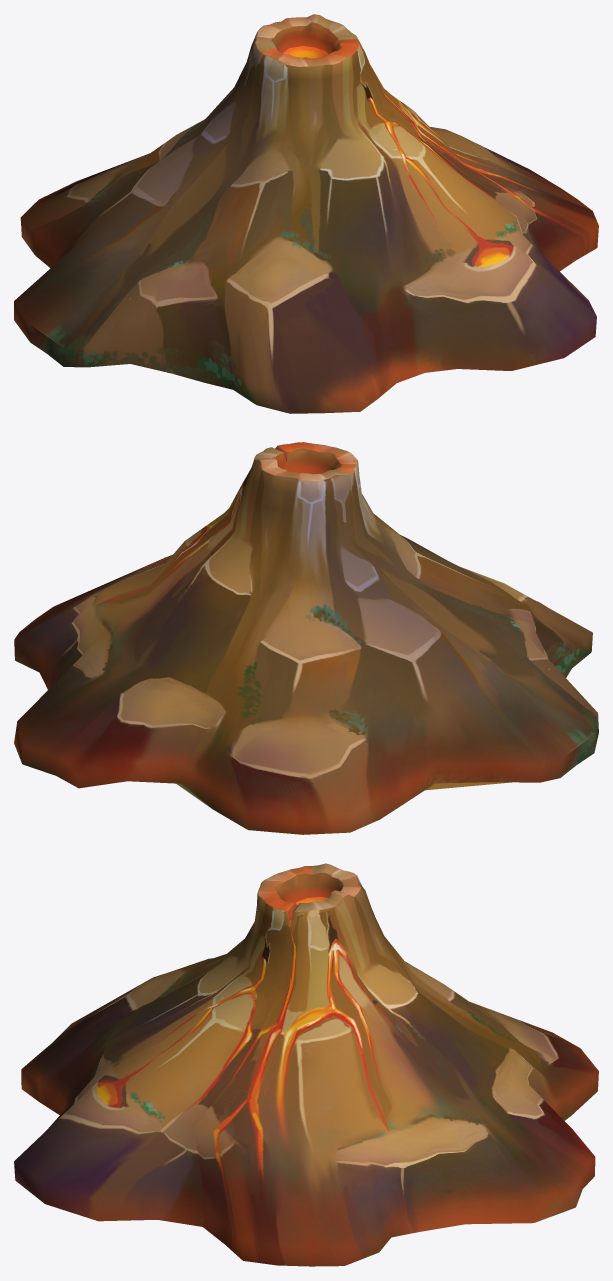
File: vulcano_002.fbx
3 renders of one model, top to bottom at view 1: azimuth 30°, elevation 25°; view 2: azimuth 150°, elevation 25°; view 3: azimuth 270°, elevation 25°, orthographic.
Parts seen in each view (by area): view 1: volcano.002; view 2: volcano.002; view 3: volcano.002.
Part boxes in pixels (box(x1,y1,x2,y2)): volcano.002: box(14, 14, 598, 413); volcano.002: box(14, 442, 598, 834); volcano.002: box(14, 863, 598, 1266).
Bounding box in the file's own units: 244 × 109 × 228.
1 material, 1 textured.
